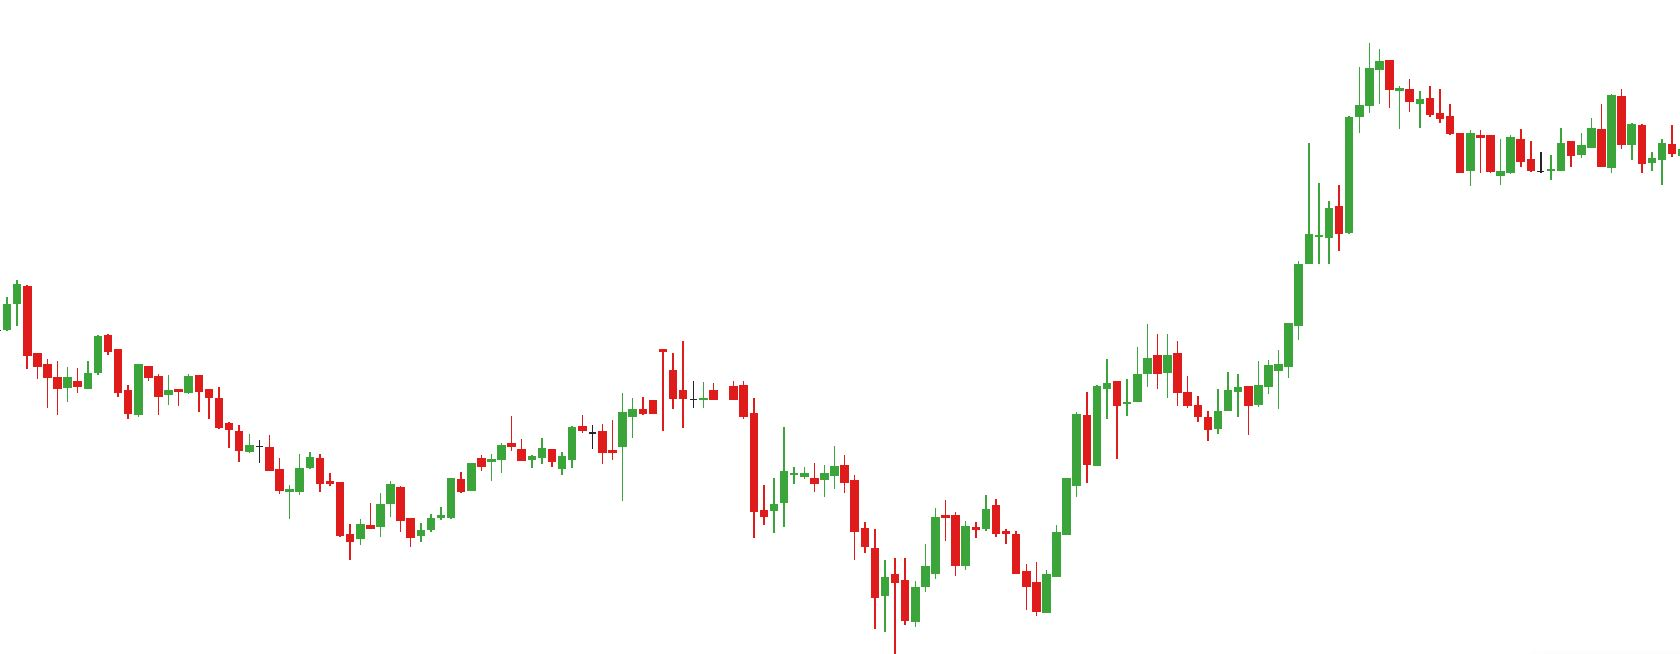buy: (951, 506, 1053, 623)
